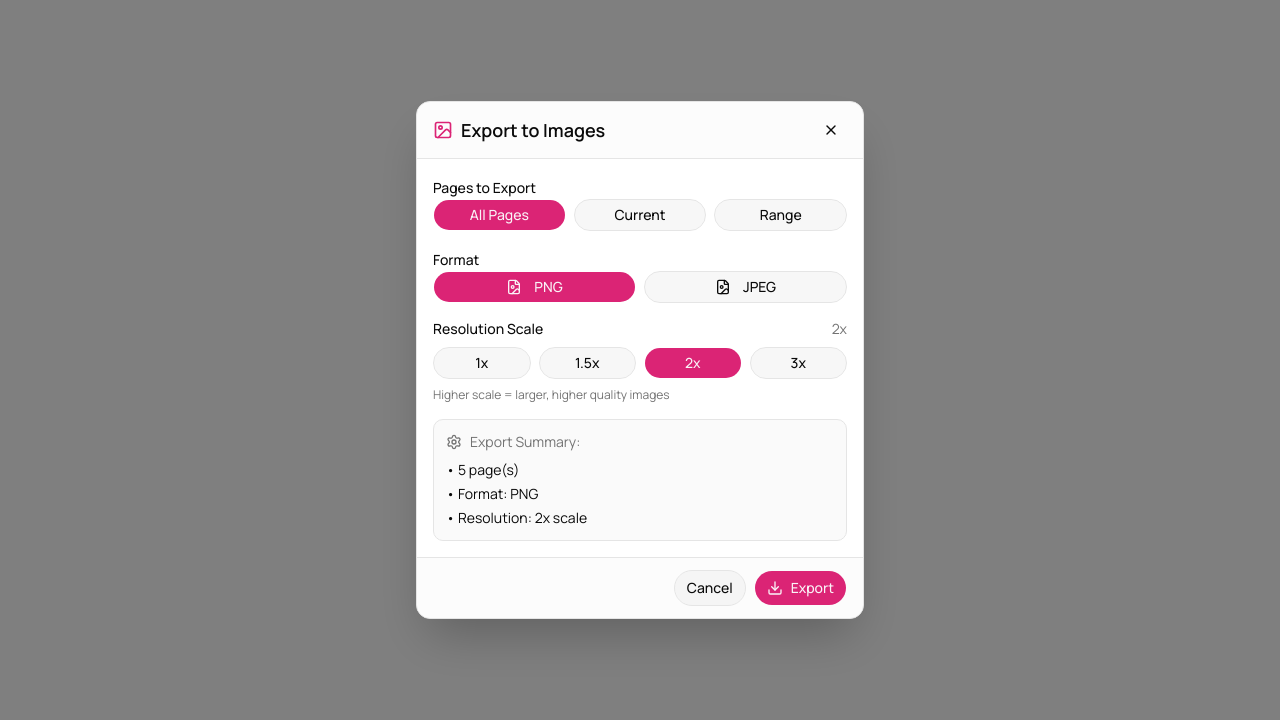
Test: ExportToImagesModal › should switch to JPEG and show quality slider
This screenshot has width=1280, height=720.
Click the button "JPEG": [746, 287] box [644, 271, 847, 303]
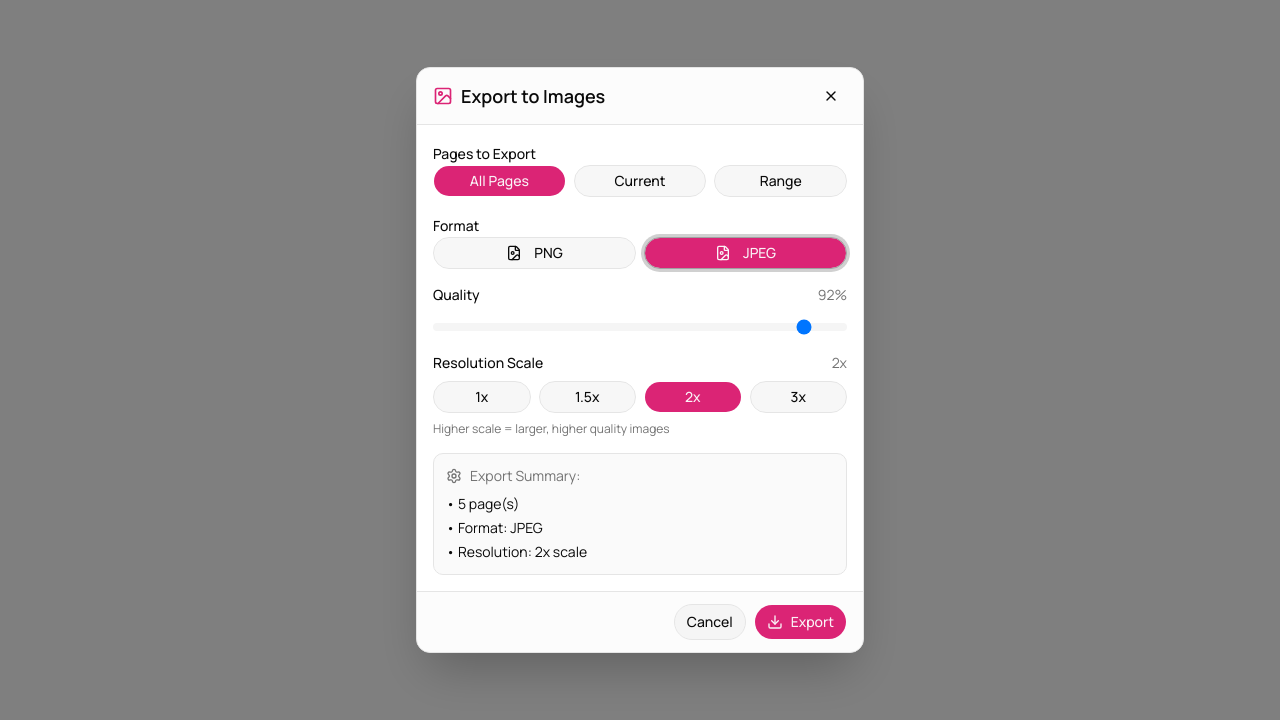
Expected: the text "Quality" is shown, [433, 285, 480, 305]
Expected: the text "92%" is shown, [818, 285, 847, 305]
